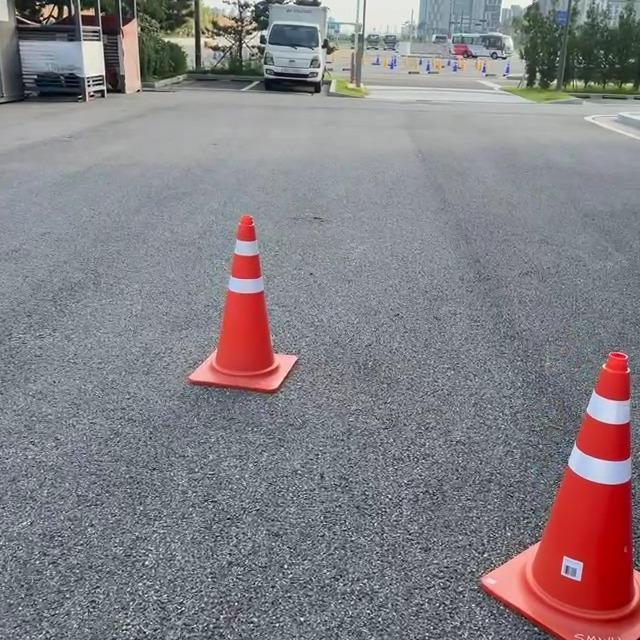fallen_object: (454, 298, 640, 640), (187, 180, 333, 457)
